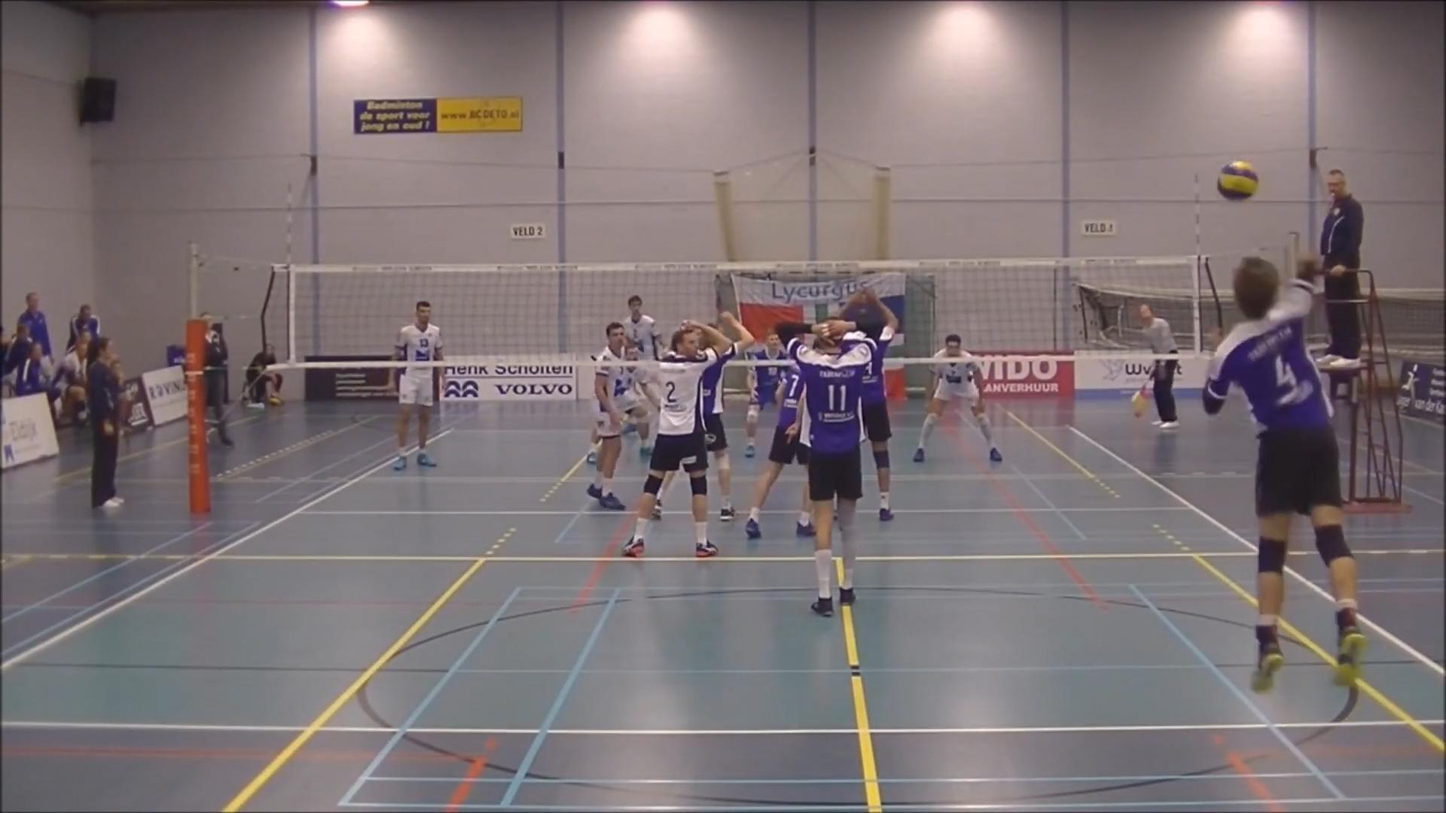Player: (776, 320, 878, 616), (621, 321, 746, 557), (843, 288, 898, 520), (913, 334, 1002, 463), (745, 364, 807, 538), (702, 312, 753, 521), (587, 322, 633, 510), (745, 332, 789, 458), (389, 364, 438, 470), (619, 364, 660, 457), (624, 294, 660, 360)
Serve: (1205, 255, 1375, 690)
ball: (1218, 160, 1257, 200)
